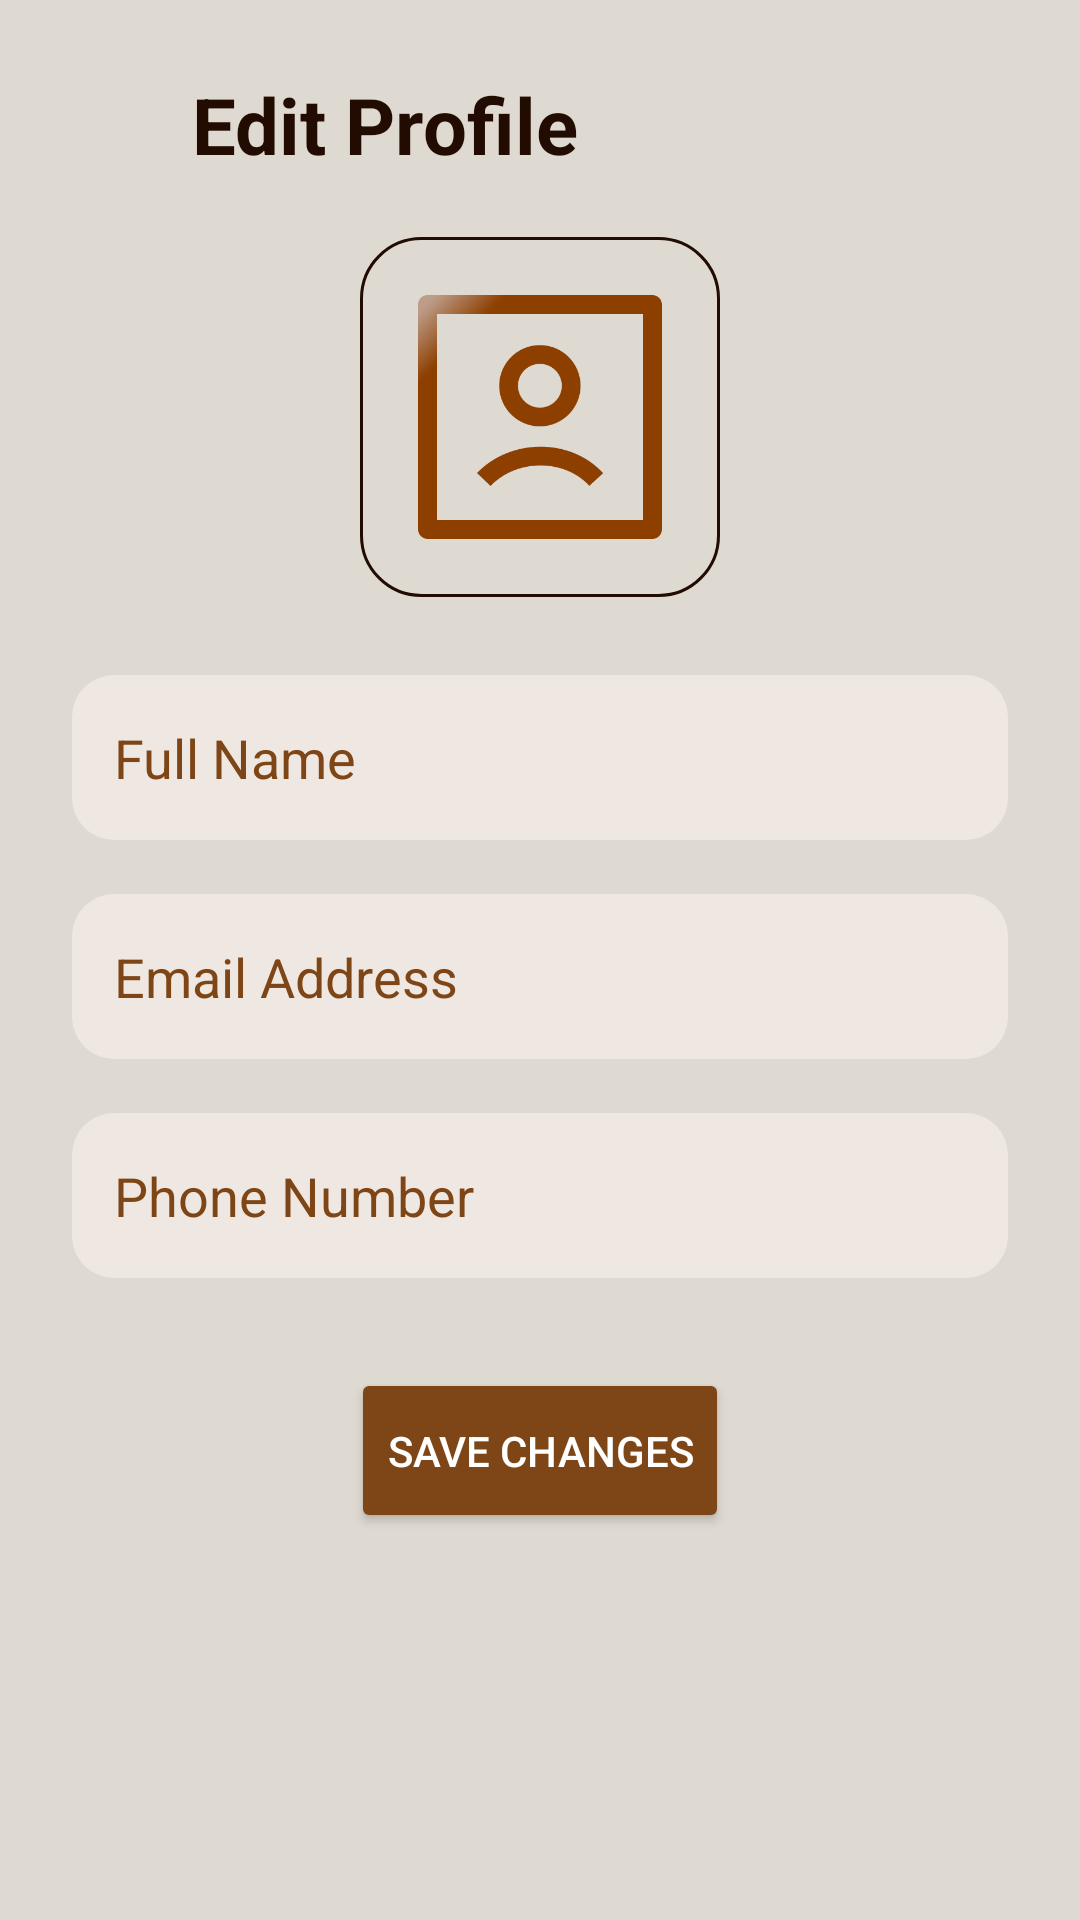

Where icons sit on this 1080 x 1920 app screen, as (x1, y1, x2, y2):
person profile: (360, 237, 720, 597)
